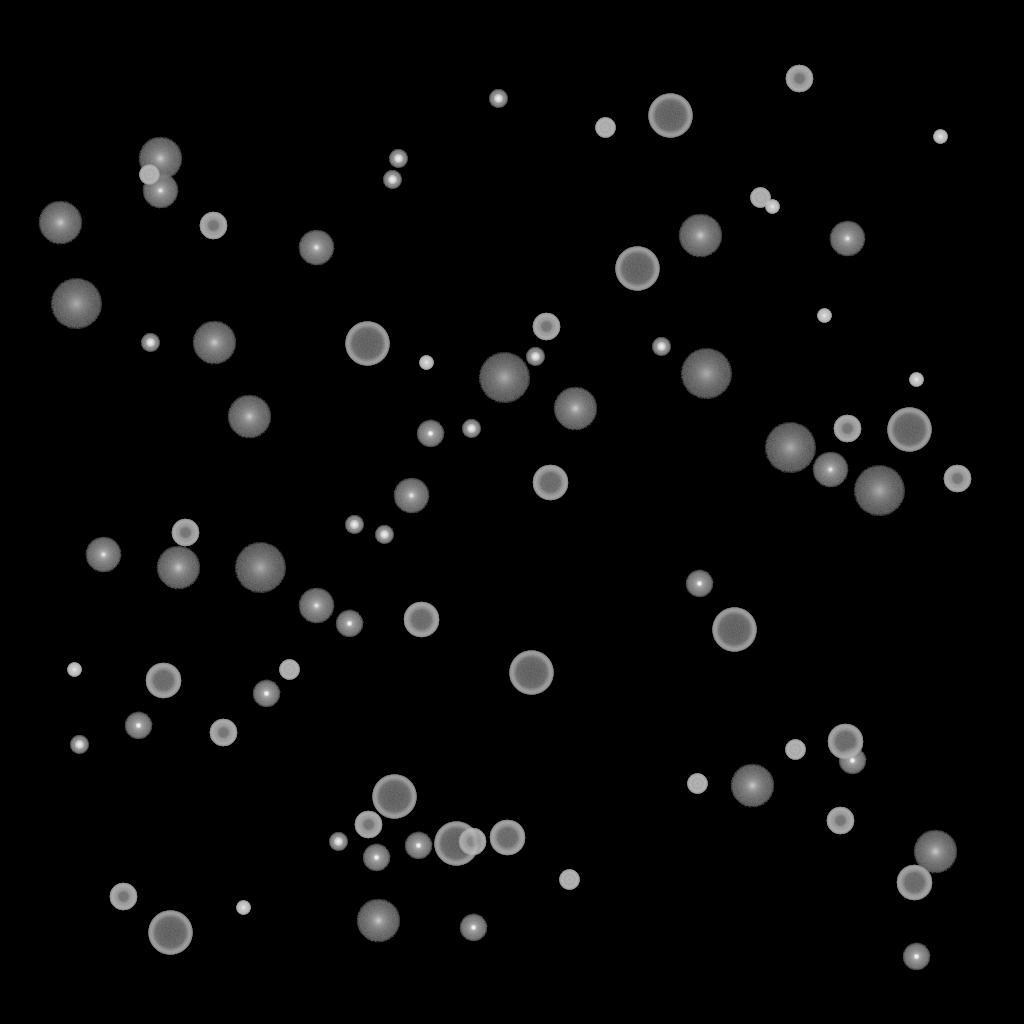depth:-10: (838, 747, 866, 775), (124, 712, 152, 740), (459, 914, 487, 942), (685, 570, 713, 598), (902, 943, 930, 971), (362, 844, 390, 872), (252, 680, 280, 708), (335, 610, 363, 638), (404, 832, 432, 860), (416, 420, 444, 448)
depth:-20: (375, 526, 393, 544), (489, 90, 507, 108), (141, 334, 159, 352), (345, 516, 363, 534), (462, 420, 480, 438), (70, 736, 88, 754), (329, 833, 347, 851), (526, 348, 544, 366), (383, 171, 401, 189), (389, 150, 407, 168), (652, 338, 670, 356)
depth:-30: (909, 373, 923, 387), (817, 309, 831, 323), (236, 901, 250, 915), (765, 200, 779, 214), (933, 130, 947, 144), (419, 356, 433, 370), (67, 663, 81, 677)
depth:-40: (687, 774, 707, 794), (750, 188, 770, 208), (785, 740, 805, 760), (139, 165, 159, 185), (559, 870, 579, 890), (595, 118, 615, 138), (279, 660, 299, 680)
depth:-50: (833, 415, 861, 443), (109, 883, 137, 911), (943, 465, 971, 493), (209, 719, 237, 747), (354, 811, 382, 839), (458, 828, 486, 856), (826, 807, 854, 835), (532, 313, 560, 341), (785, 65, 813, 93), (171, 519, 199, 547), (199, 212, 227, 240)
depth:-60: (145, 663, 181, 699), (896, 865, 932, 901), (827, 724, 863, 760), (532, 465, 568, 501), (403, 602, 439, 638), (489, 820, 525, 856)
depth:-70: (509, 651, 553, 695), (434, 822, 478, 866), (887, 408, 931, 452), (345, 322, 389, 366), (712, 608, 756, 652), (615, 247, 659, 291), (148, 911, 192, 955), (372, 775, 416, 819), (648, 94, 692, 138)
depth:0: (298, 230, 334, 266), (829, 221, 865, 257), (142, 173, 178, 209), (298, 588, 334, 624), (393, 478, 429, 514), (812, 452, 848, 488), (85, 537, 121, 573)
depth:10: (913, 830, 957, 874), (192, 321, 236, 365), (38, 201, 82, 245), (156, 546, 200, 590), (227, 395, 271, 439), (553, 387, 597, 431), (356, 899, 400, 943), (730, 764, 774, 808), (138, 137, 182, 181), (678, 214, 722, 258)
depth:20: (764, 423, 816, 473), (478, 353, 530, 403), (680, 349, 732, 399), (853, 466, 905, 516), (50, 279, 102, 329), (234, 543, 286, 593)
